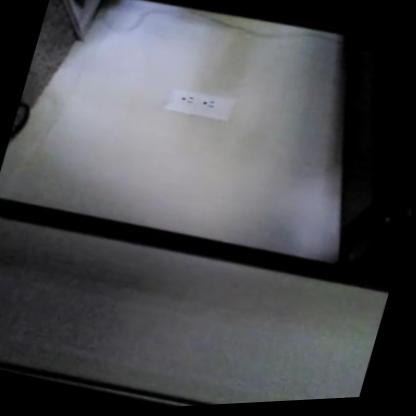OUTLET: (164, 81, 235, 126)
